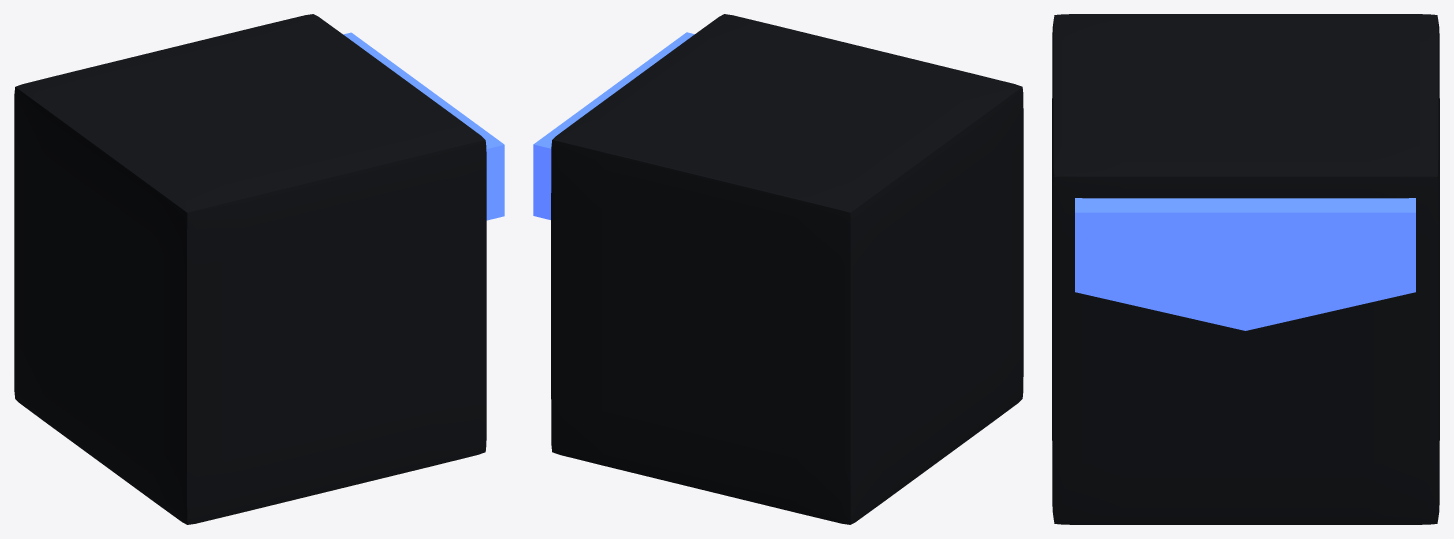
3 renders of one model, left to right at view 1: azimuth 30°, elevation 25°; view 2: azimuth 150°, elevation 25°; view 3: azimuth 270°, elevation 25°, orthographic. The views are drawn at different scales.
Parts seen in each view (by area): view 1: Cube, Cube.001; view 2: Cube, Cube.001; view 3: Cube, Cube.001.
Boxes of the visible parts, left/top/right/bottom form: Cube: left=14, top=14, right=486, bottom=524; Cube.001: left=343, top=32, right=504, bottom=220; Cube: left=551, top=14, right=1023, bottom=524; Cube.001: left=533, top=32, right=694, bottom=219; Cube: left=1052, top=14, right=1439, bottom=524; Cube.001: left=1075, top=198, right=1415, bottom=330.
Size of the model in its own units: 2.18 by 2 by 2.
